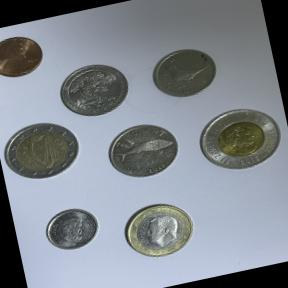1 Euro-B: (111, 192, 202, 268)
2 Euro-B: (0, 113, 88, 190)
Canada-10cent-B: (39, 200, 106, 258)
Canada-2Dollar-B: (184, 93, 288, 185)
Croatia-2Kune-B: (99, 114, 188, 189)
US-1cent-B: (0, 28, 52, 90)
US-25cent-B: (52, 54, 139, 126)
